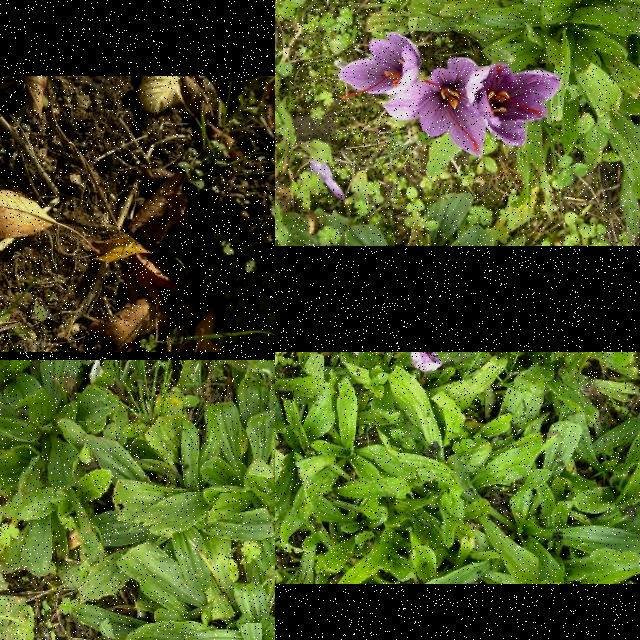flower: (384, 57, 486, 159), (466, 64, 562, 146), (338, 33, 422, 101), (411, 352, 442, 372)
